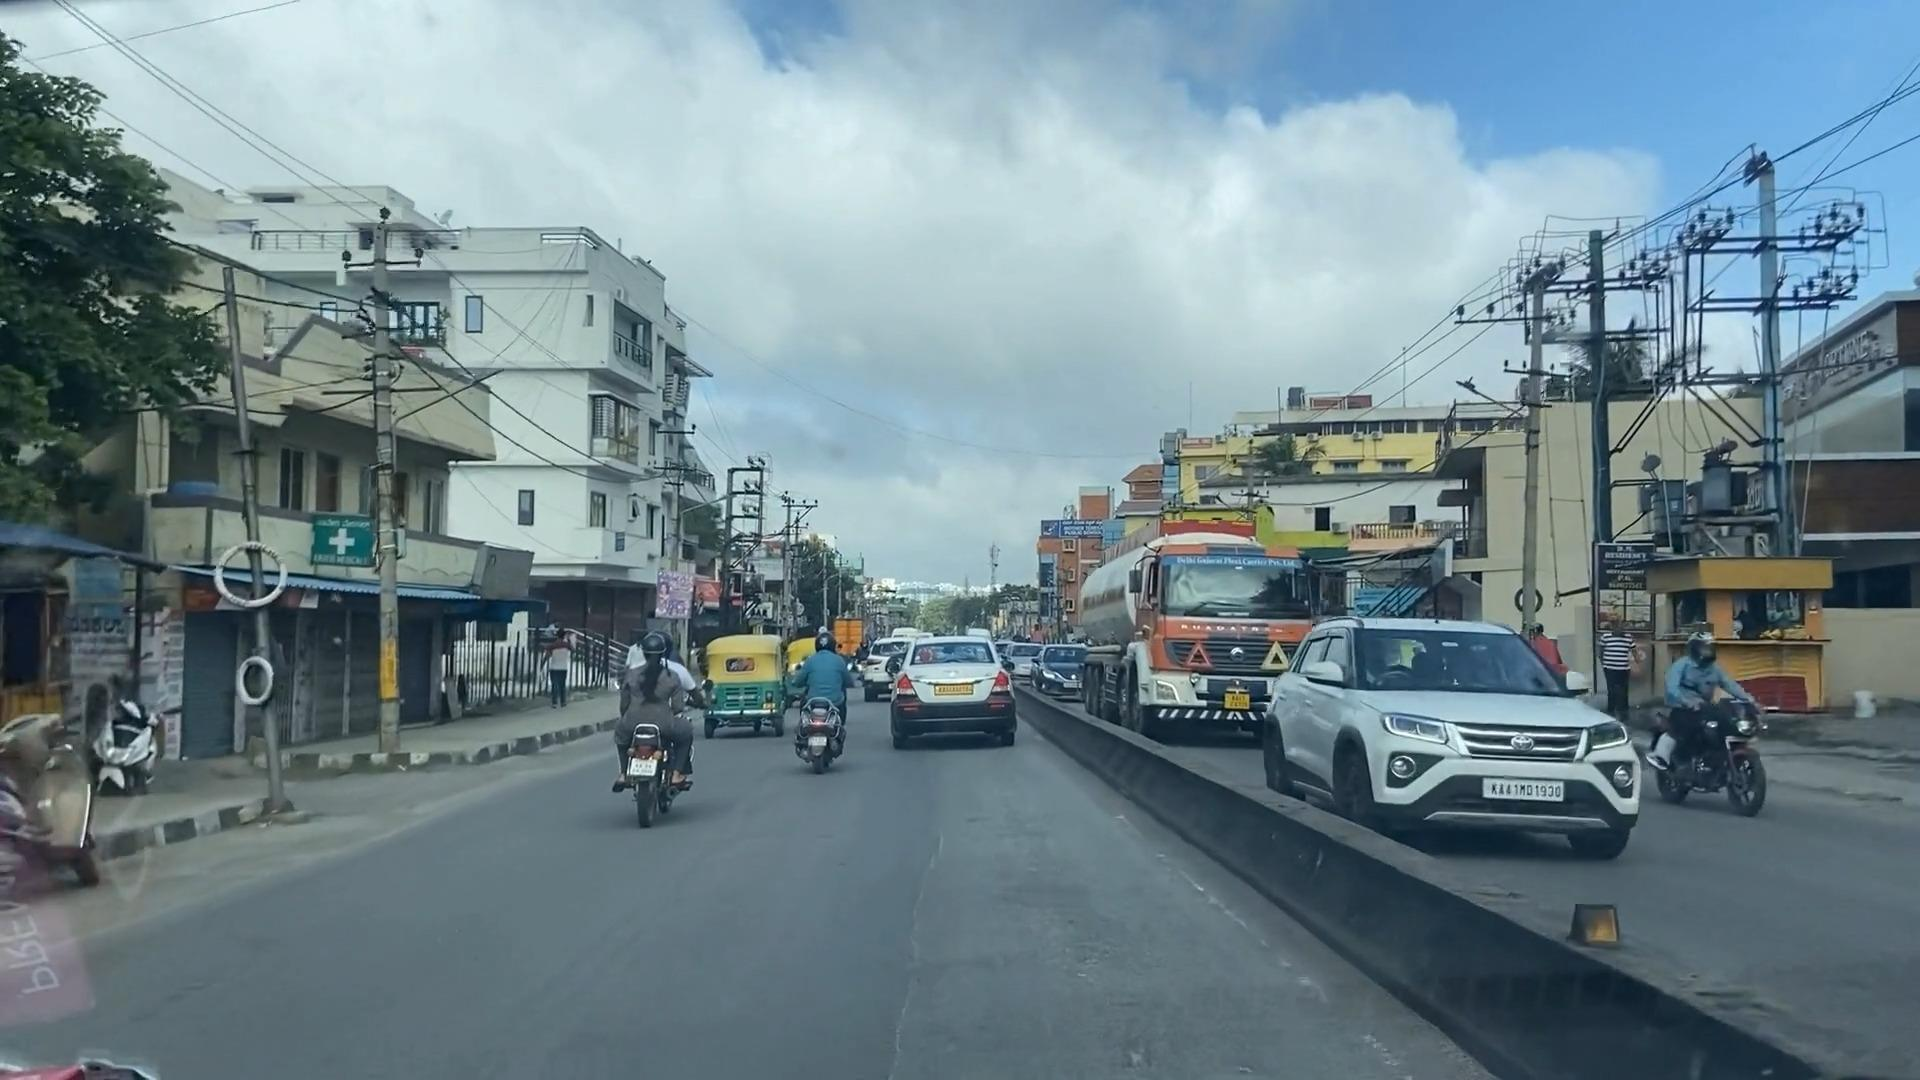LMV: (624, 634, 692, 810), (906, 650, 1018, 737), (708, 649, 773, 737), (804, 640, 845, 767)
UnsurfacedRoad: (890, 820, 953, 1080), (1083, 978, 1199, 1080)
